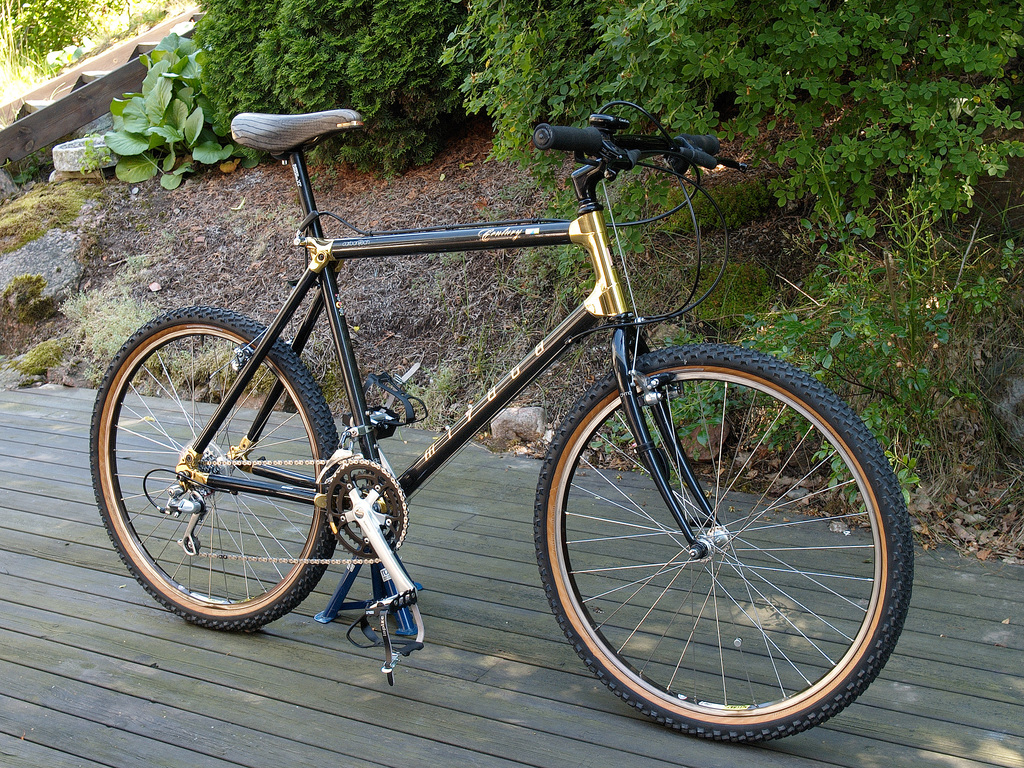Bike_toward: (122, 115, 927, 719)
